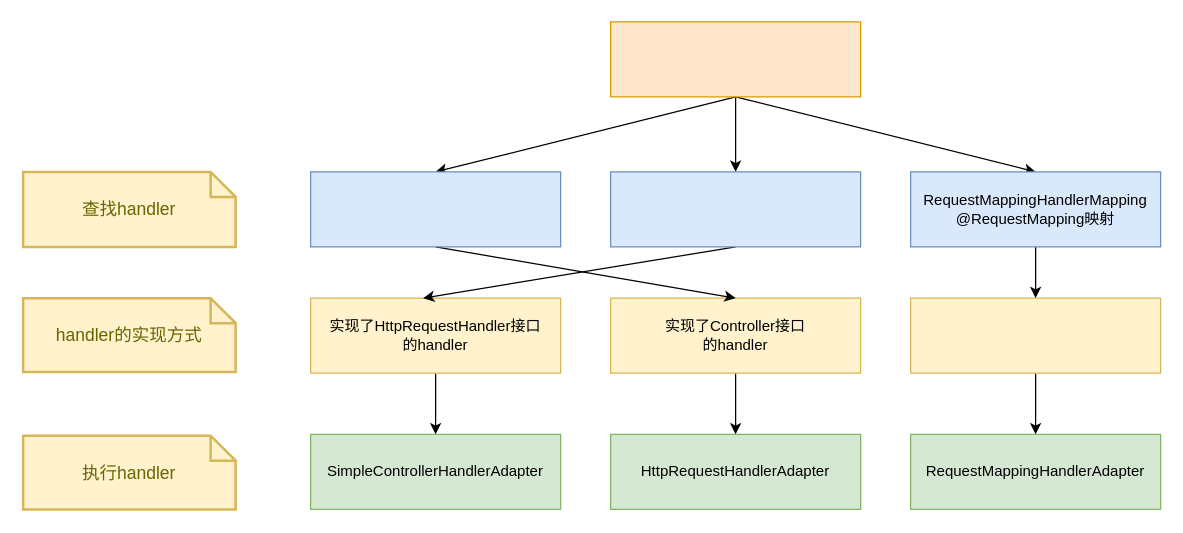
This 1183x533 diagram has some shape labels left out. Each missing label, with the centre of its shape:
"BeanNameUrlHandlerMapping BeanName映射" belongs at point (735, 209).
"DispatcherServlet#doDispatch" belongs at point (735, 59).
"SimpleUrlHandlerMapping 简单url映射" belongs at point (435, 209).
"使用 @RequestMapping注解 的handler" belongs at point (1035, 335).
